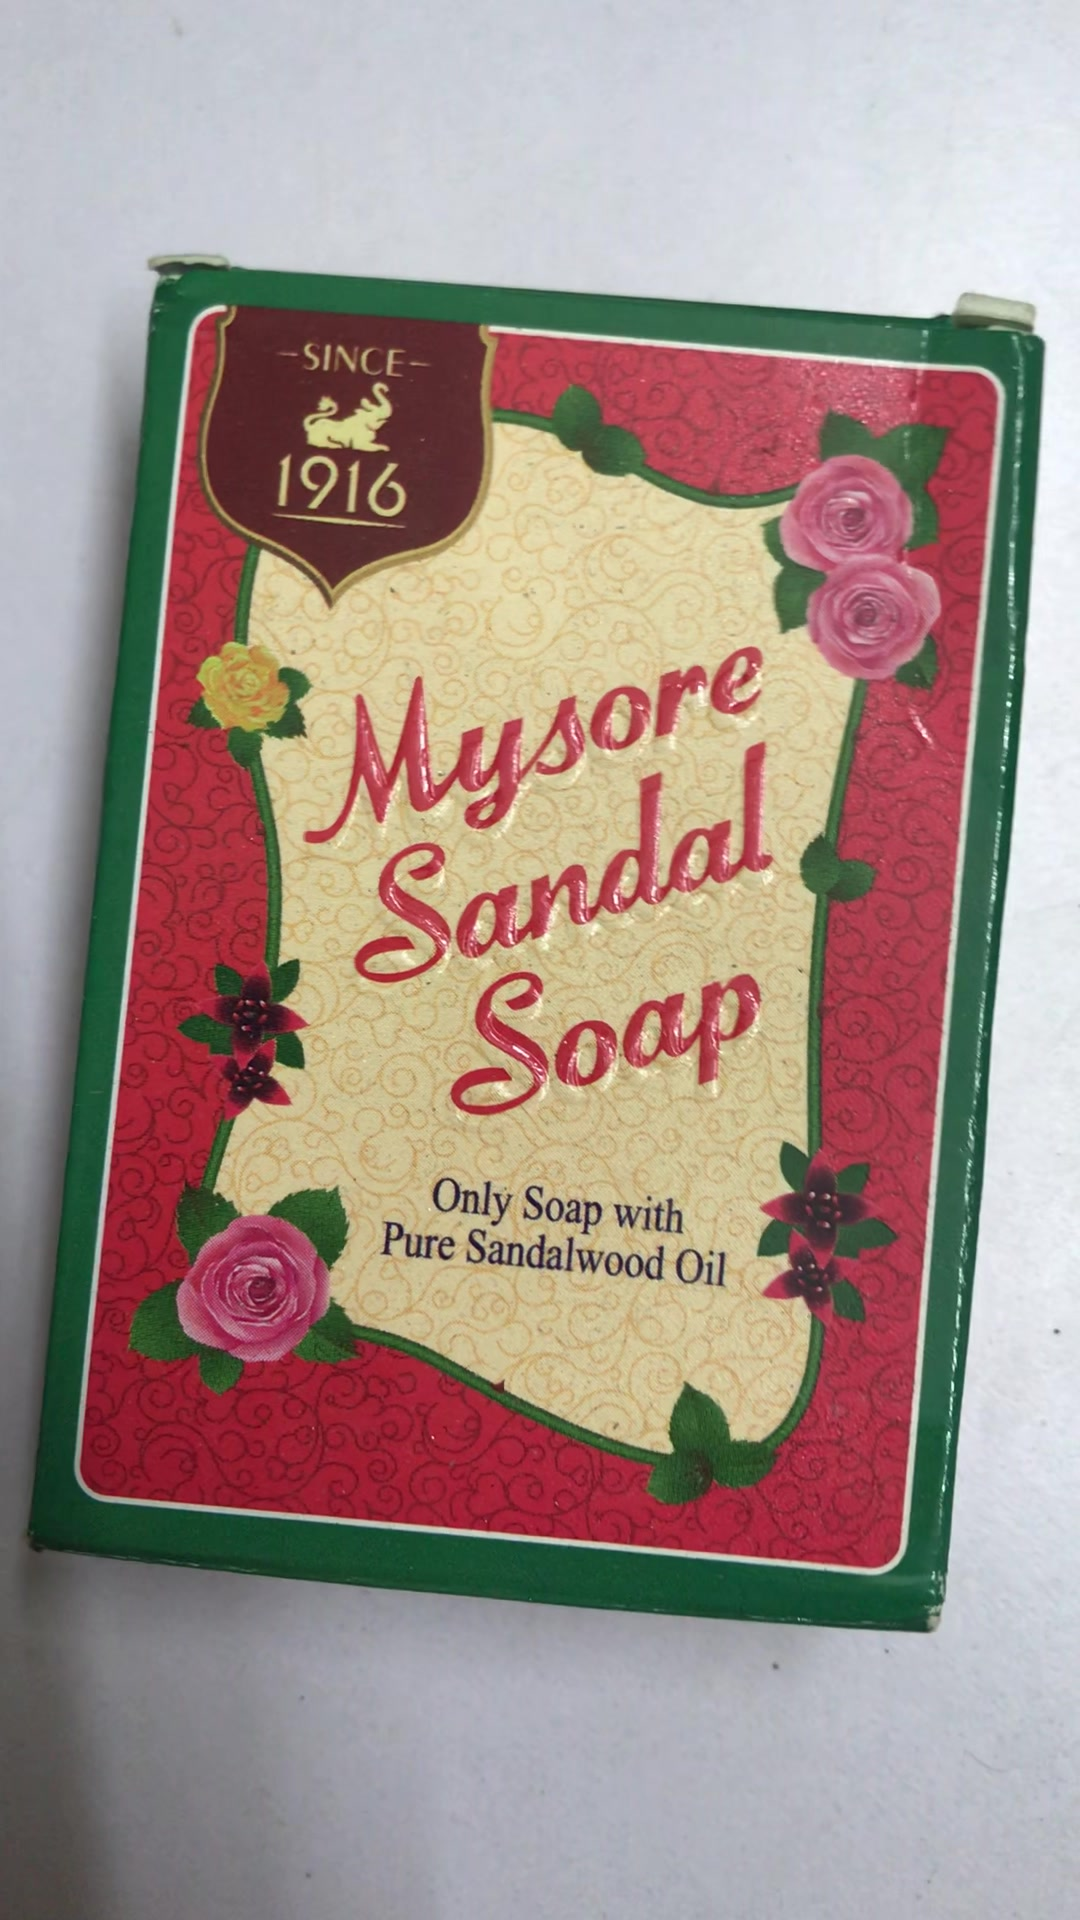mysore sandal soap: (28, 262, 1043, 1633)
